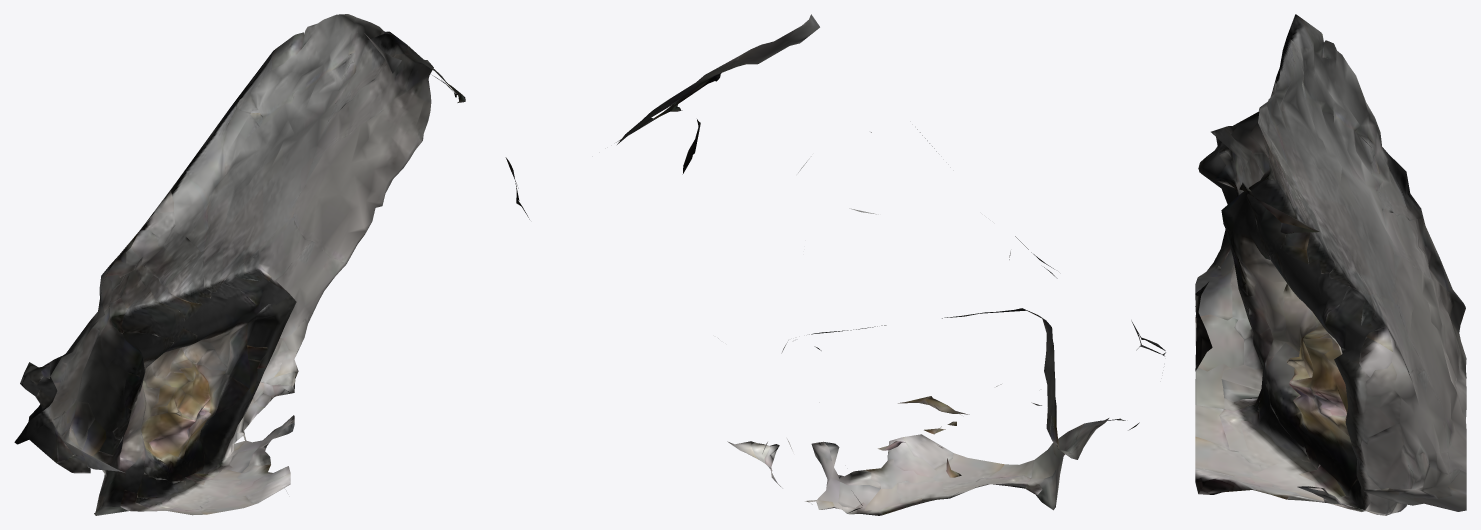
The model's file is hall.glb.
The picture shows the model from 3 angles, left to right: view 1: azimuth 30°, elevation 25°; view 2: azimuth 150°, elevation 25°; view 3: azimuth 270°, elevation 25°; orthographic projection. The views are drawn at different scales.
Bounding box in the file's own units: 0.8162 × 0.6537 × 0.3145.
Materials: 1 (1 with a texture image).
